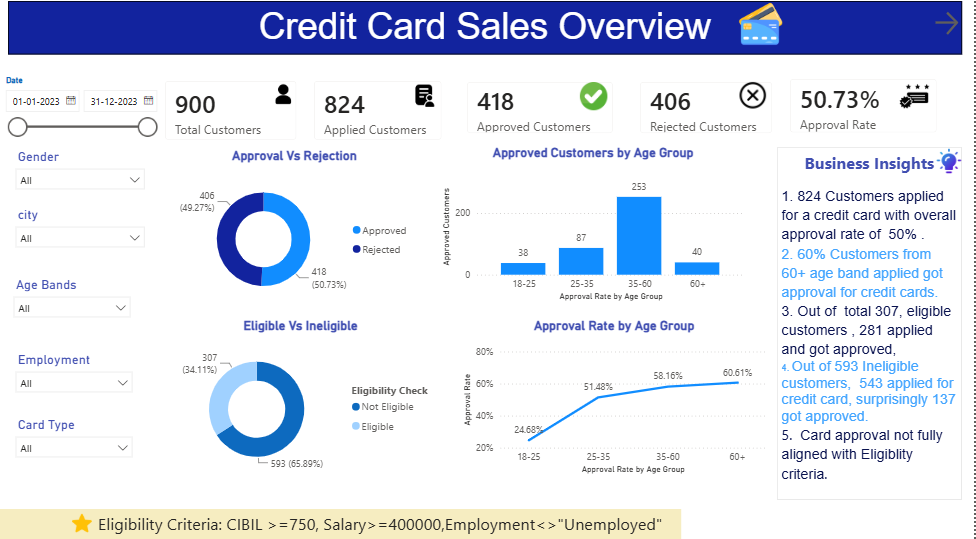

The dashboard page shown, as its layout file describes it:
{"tool":"powerbi","page":{"name":"Overview","canvas":[1280,720],"ordinal":0},"visuals":[{"type":"cardVisual","fields":{"Data":["Customers.Total Customers"]},"box":[204.2,100.8,206.8,111.3],"z":0},{"type":"cardVisual","fields":{"Data":["Transactions.Approved Customers"]},"box":[599.6,102.1,226,101.5],"z":1000},{"type":"cardVisual","fields":{"Data":["Transactions.Rejected Customers"]},"box":[826,102.1,207.4,101.5],"z":2000},{"type":"cardVisual","fields":{"Data":["Transactions.Approval Rate"]},"box":[1022.4,98.2,226.5,104.7],"z":3000},{"type":"textbox","box":[15.7,12.9,1248.5,70.1],"z":4000},{"type":"image","box":[906.7,12.9,188.8,60.1],"z":5000},{"type":"cardVisual","fields":{"Data":["Transactions.Applied Customers"]},"box":[399.3,100.8,201.7,111.6],"z":6000},{"type":"image","box":[755.3,119.1,53.7,36.7],"z":7000},{"type":"image","box":[362.6,116.5,27.5,36.7],"z":8000},{"type":"image","box":[968.7,116.5,44.3,40],"z":9000},{"type":"image","box":[545.9,116.5,31.4,40.6],"z":10000},{"type":"image","box":[1171.6,115.2,61.5,44.3],"z":11000},{"type":"donutChart","title":"Approval Vs Rejection","fields":{"Y":["Count(Transactions.customer_id)"],"Category":["Transactions.Approval"]},"box":[228.8,205.9,323.2,208.8],"z":12000},{"type":"clusteredColumnChart","title":"Approved Customers by Age Group","fields":{"Category":["Customers.Age Bands"],"Y":["Transactions.Approved Customers"]},"box":[579.2,201.7,406.2,208.8],"z":13000},{"type":"lineChart","title":"Approval Rate by Age Group","fields":{"Category":["Customers.Age Bands"],"Y":["Transactions.Approval Rate"]},"box":[606.4,427.6,406.2,208.8],"z":14000},{"type":"donutChart","title":"Eligible Vs Ineligible","fields":{"Y":["Count(Customers.customer_id)"],"Category":["Customers.Eligibility Check"]},"box":[211.7,427.6,373.3,208.8],"z":15000},{"type":"textbox","box":[0,677.9,896.7,41.5],"z":16000},{"type":"image","box":[100.1,677.9,25.7,37.2],"z":17000},{"type":"slicer","fields":{"Values":["Customers.Gender"]},"box":[15.7,201.7,188.8,84.4],"z":18000},{"type":"slicer","fields":{"Values":["Customers.city"]},"box":[15.7,277.5,188.8,82.9],"z":19000},{"type":"slicer","fields":{"Values":["Customers.Age Bands"]},"box":[12.9,369,173.1,84.4],"z":20000},{"type":"slicer","fields":{"Values":["Customers.Employment"]},"box":[15.7,467.7,173.1,84.4],"z":21000},{"type":"slicer","fields":{"Values":["Transactions.Card Type"]},"box":[15.7,552,173.1,84.4],"z":22000},{"type":"slicer","title":"DATE","fields":{"Values":["DateTable.Date"]},"box":[0,105.8,220.2,100.1],"z":23000},{"type":"textbox","box":[1022.6,204.5,241.7,461.9],"z":24000},{"type":"image","box":[1224.2,205.9,47.2,34.3],"z":25000},{"type":"actionButton","box":[1224.2,22.9,40,40],"z":26000}]}

Visuals, with their boxes in screenshot pixels (x1, y1, x2, y2), scaled from the page's 1280x720 canvas onto the 976x539 screenshot:
cardVisual - Customers.Total Customers: 156,75,313,159
cardVisual - Transactions.Approved Customers: 457,76,630,152
cardVisual - Transactions.Rejected Customers: 630,76,788,152
cardVisual - Transactions.Approval Rate: 780,74,952,152
textbox: 12,10,964,62
image: 691,10,835,55
cardVisual - Transactions.Applied Customers: 304,75,458,159
image: 576,89,617,117
image: 276,87,297,115
image: 739,87,772,117
image: 416,87,440,118
image: 893,86,940,119
"Approval Vs Rejection" donutChart: 174,154,421,310
"Approved Customers by Age Group" clusteredColumnChart: 442,151,751,307
"Approval Rate by Age Group" lineChart: 462,320,772,476
"Eligible Vs Ineligible" donutChart: 161,320,446,476
textbox: 0,507,684,538
image: 76,507,96,535
slicer - Customers.Gender: 12,151,156,214
slicer - Customers.city: 12,208,156,270
slicer - Customers.Age Bands: 10,276,142,339
slicer - Customers.Employment: 12,350,144,413
slicer - Transactions.Card Type: 12,413,144,476
"DATE" slicer: 0,79,168,154
textbox: 780,153,964,499
image: 933,154,969,180
actionButton: 933,17,964,47
